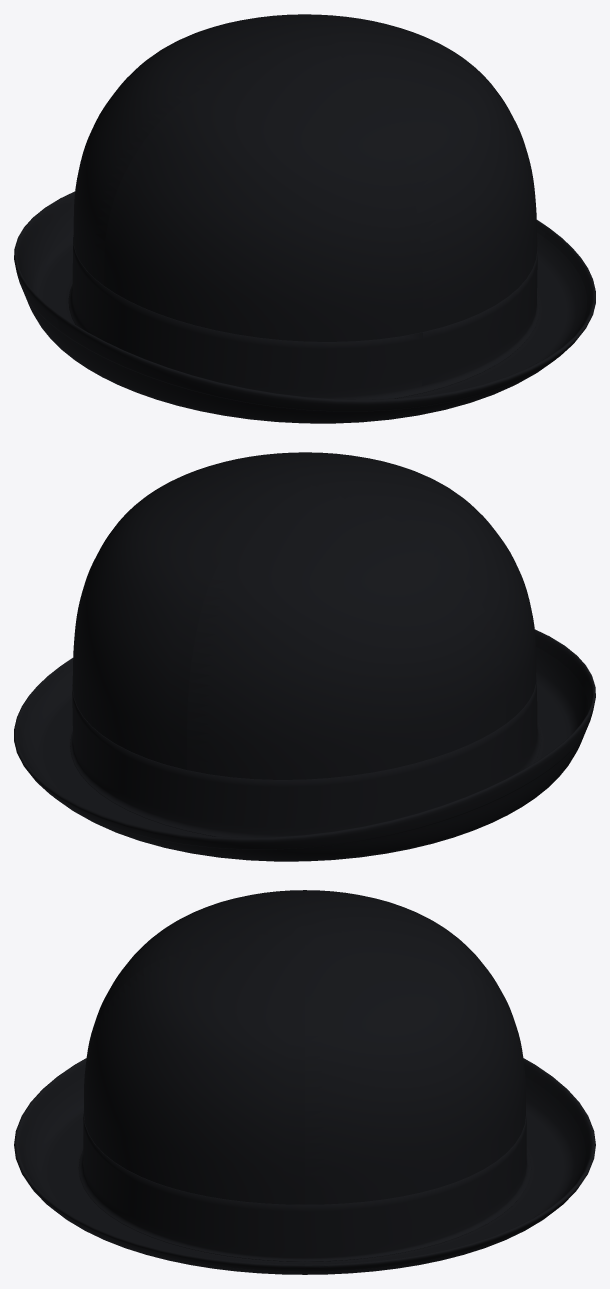
The model's file is hat-black.glb.
3 renders of one model, top to bottom at view 1: azimuth 30°, elevation 25°; view 2: azimuth 150°, elevation 25°; view 3: azimuth 270°, elevation 25°, orthographic. The views are drawn at different scales.
Parts seen in each view (by area): view 1: hat; view 2: hat; view 3: hat.
Part boxes in pixels (x1,y1,x2,y2): hat: [14, 14, 595, 423]; hat: [14, 452, 595, 861]; hat: [14, 890, 595, 1274].
Size of the model in its own units: 45.56 by 23.31 by 49.07.
1 material, 1 textured.
